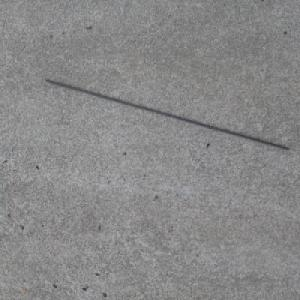LuggagePart: (43, 77, 291, 151)
